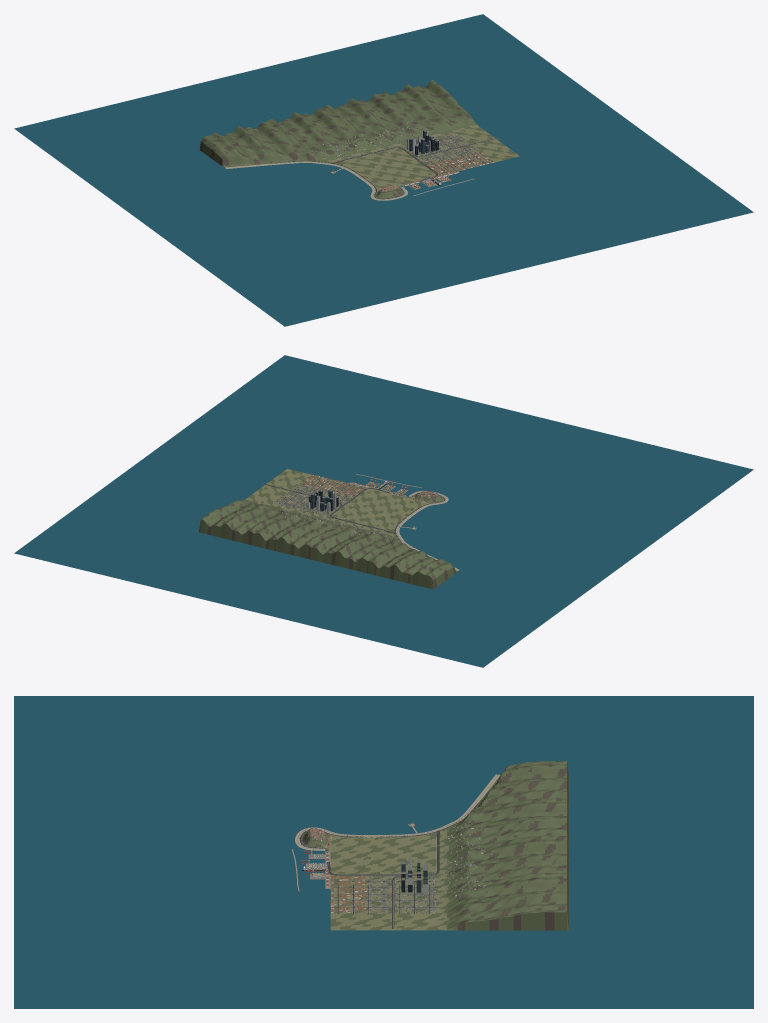
The model's file is SEV_Backdrop_backdrop.fbx.
3 views of the same model, one above another, from view 1: azimuth 30°, elevation 25°; view 2: azimuth 150°, elevation 25°; view 3: azimuth 270°, elevation 25° (orthographic). The views are drawn at different scales.
Parts seen in each view (by area): view 1: SM_LA_Ocean, SM_LA_Terrain, SM_LA_East_Houses, SM_LA_Downtown, SM_LA_Roads_East; view 2: SM_LA_Ocean, SM_LA_Terrain, SM_LA_East_Houses, SM_LA_Downtown; view 3: SM_LA_Ocean, SM_LA_Terrain, SM_LA_East_Houses, SM_LA_Roads_East, SM_LA_Beach, SM_LA_Downtown, SM_LA_Freeway, SM_LA_Hills_Houses.
Part boxes in pixels (box(x1,y1,x2,y2)): SM_LA_Ocean: box(14, 14, 753, 326); SM_LA_Terrain: box(199, 80, 519, 198); SM_LA_East_Houses: box(402, 134, 493, 175); SM_LA_Downtown: box(406, 129, 439, 155); SM_LA_Roads_East: box(417, 135, 492, 173); SM_LA_Ocean: box(14, 355, 753, 667); SM_LA_Terrain: box(199, 468, 457, 589); SM_LA_East_Houses: box(274, 474, 366, 516); SM_LA_Downtown: box(306, 489, 338, 513); SM_LA_Ocean: box(14, 696, 753, 1008); SM_LA_Terrain: box(301, 761, 568, 930); SM_LA_East_Houses: box(331, 876, 436, 913); SM_LA_Roads_East: box(330, 881, 440, 913); SM_LA_Beach: box(295, 774, 500, 850); SM_LA_Downtown: box(401, 857, 427, 893); SM_LA_Freeway: box(327, 831, 439, 930); SM_LA_Hills_Houses: box(446, 817, 485, 896).
Size of the model in its own units: 6000 by 208 by 6000.
